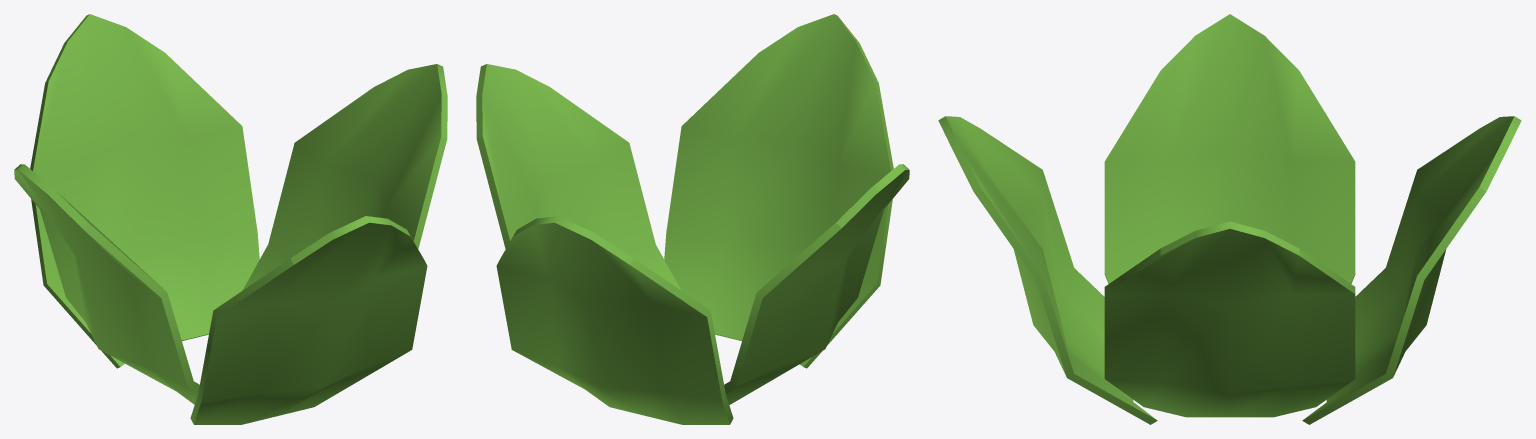
Rendered from Flower_Stage1.obj.
3 views of the same model, side by side, from view 1: azimuth 30°, elevation 25°; view 2: azimuth 150°, elevation 25°; view 3: azimuth 270°, elevation 25° (orthographic). The views are drawn at different scales.
Visible parts, largest first — view 1: pCube5; view 2: pCube5; view 3: pCube5.
Boxes of the visible parts, x1=… form: pCube5: x1=14, y1=14, x2=447, y2=424; pCube5: x1=476, y1=14, x2=909, y2=424; pCube5: x1=938, y1=14, x2=1521, y2=424.
Size of the model in its own units: 2.01 by 1.2 by 2.33.
Materials: 1 (1 with a texture image).
